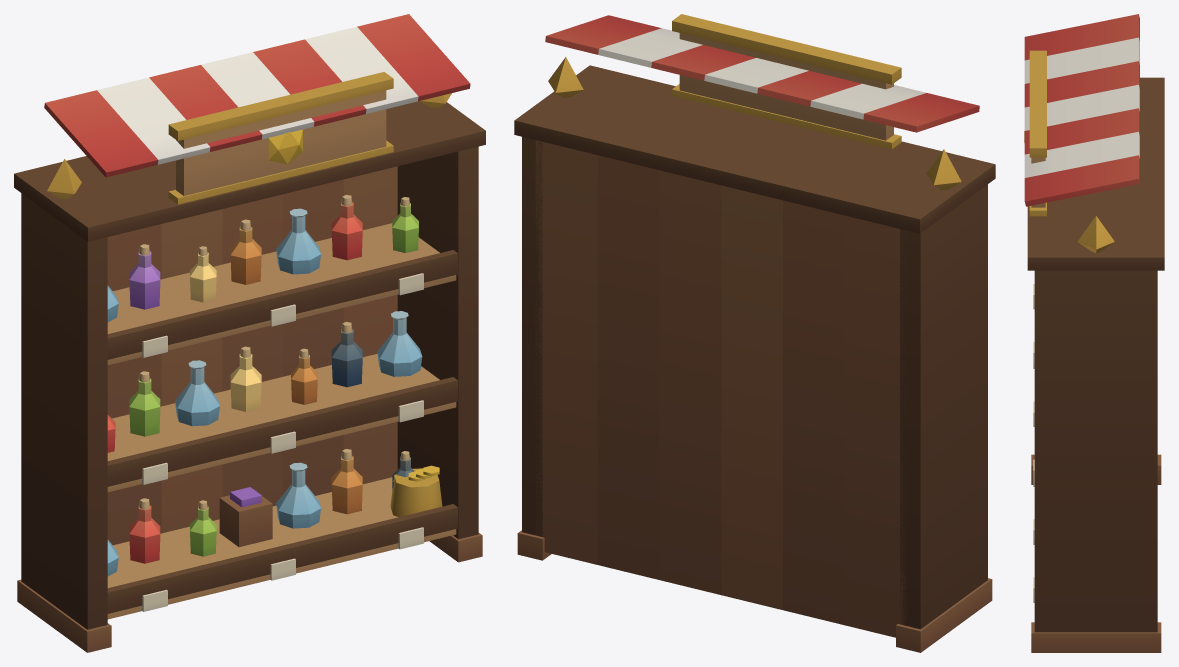
The model's file is logi_shop_shelf.glb.
3 renders of one model, left to right at view 1: azimuth 30°, elevation 25°; view 2: azimuth 150°, elevation 25°; view 3: azimuth 270°, elevation 25°, orthographic. The views are drawn at different scales.
Visible parts, largest first — view 1: logi_shop_shelf; view 2: logi_shop_shelf; view 3: logi_shop_shelf.
Part boxes in pixels (<box>): logi_shop_shelf: <box>14,14,485,652</box>; logi_shop_shelf: <box>514,14,995,652</box>; logi_shop_shelf: <box>1024,14,1164,652</box>.
Size of the model in its own units: 6.02 by 7.14 by 1.95.
Materials: 1 (1 with a texture image).
